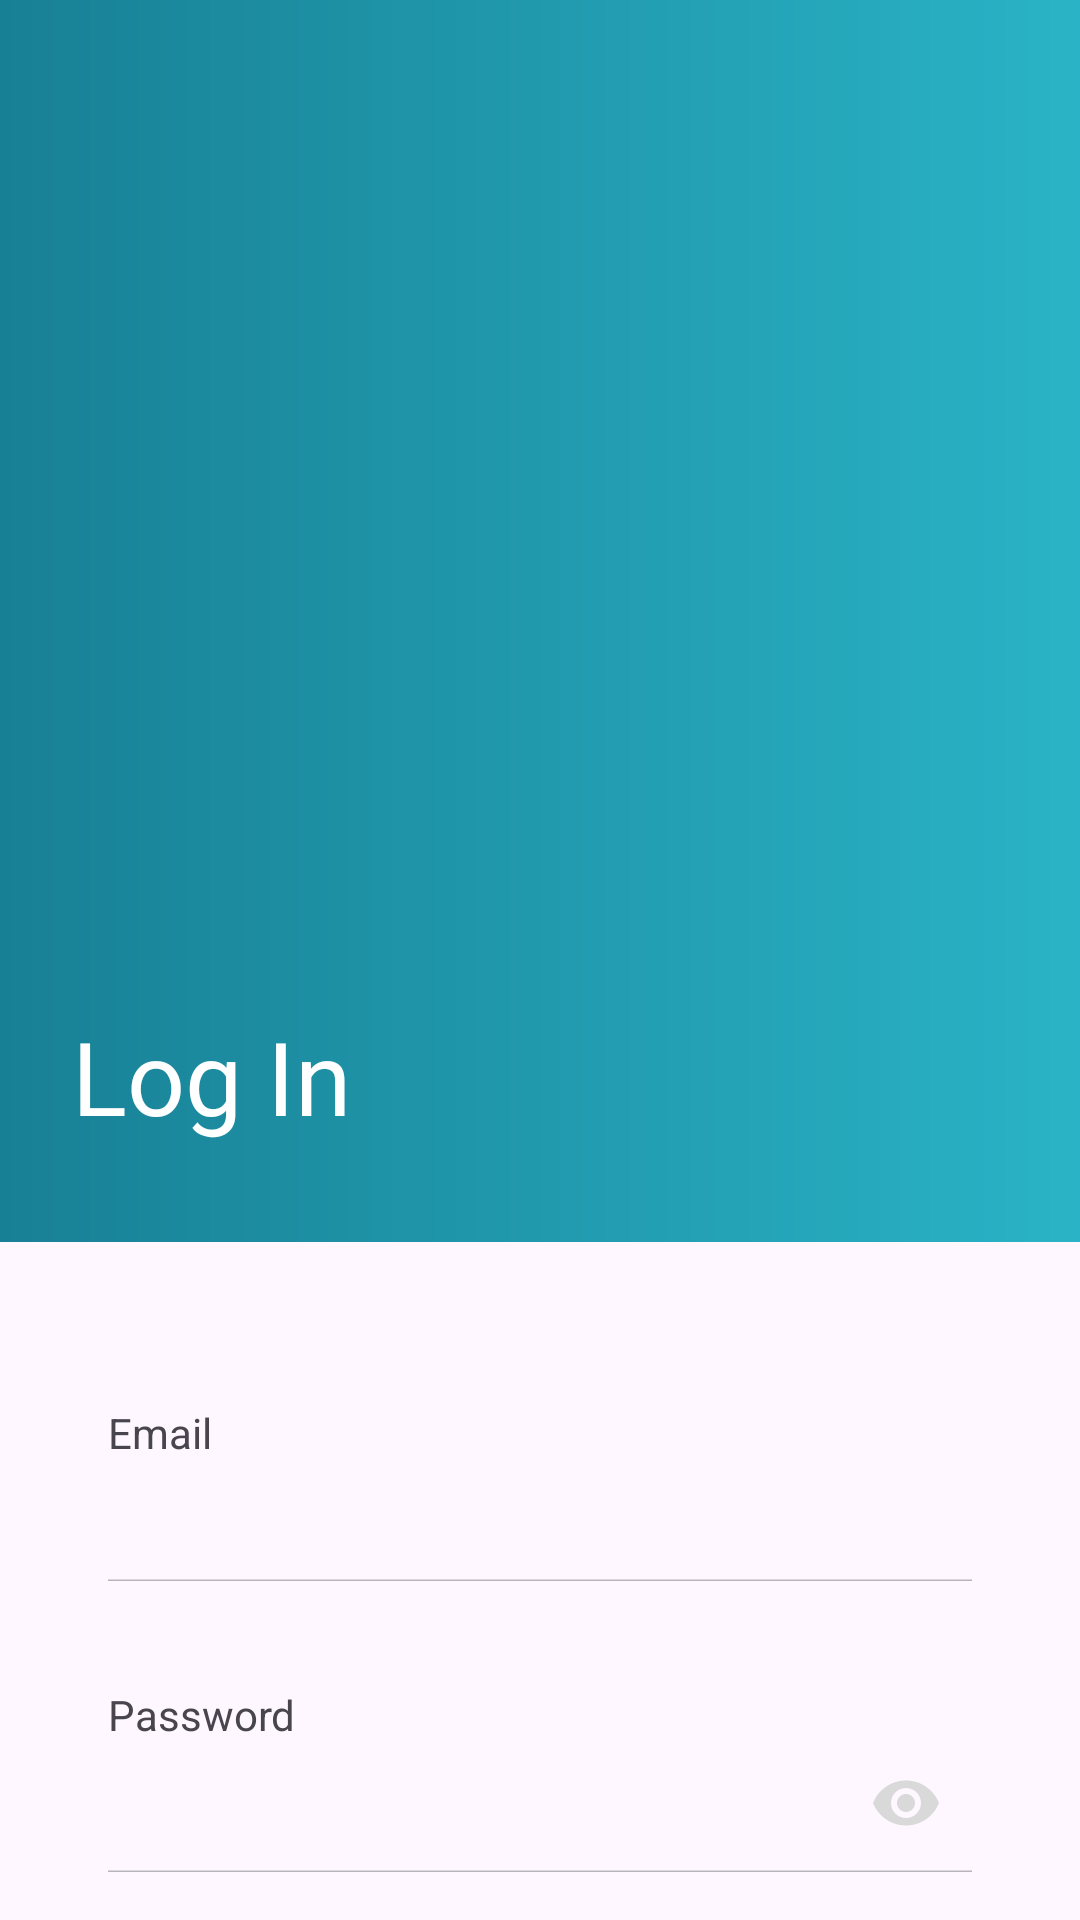

Icon click points for this 1080px x 1920px phone screenshot, format (x=x, y=y):
show: (x=906, y=1803)
